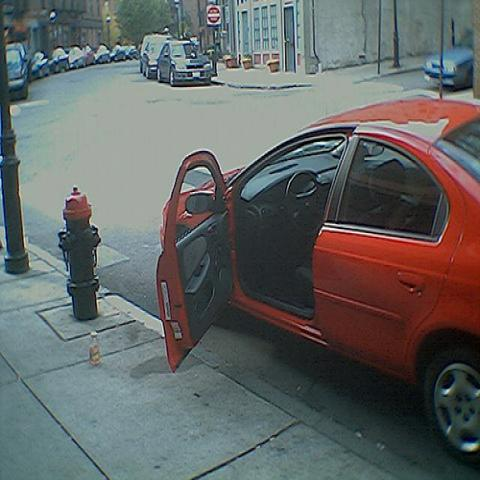car: (156, 98, 480, 471), (421, 26, 474, 90), (157, 36, 213, 86), (140, 31, 174, 79), (5, 42, 31, 100), (30, 49, 49, 82), (48, 48, 71, 73), (65, 46, 85, 70), (81, 44, 96, 66), (94, 44, 111, 63), (112, 45, 125, 62), (124, 48, 140, 60)
